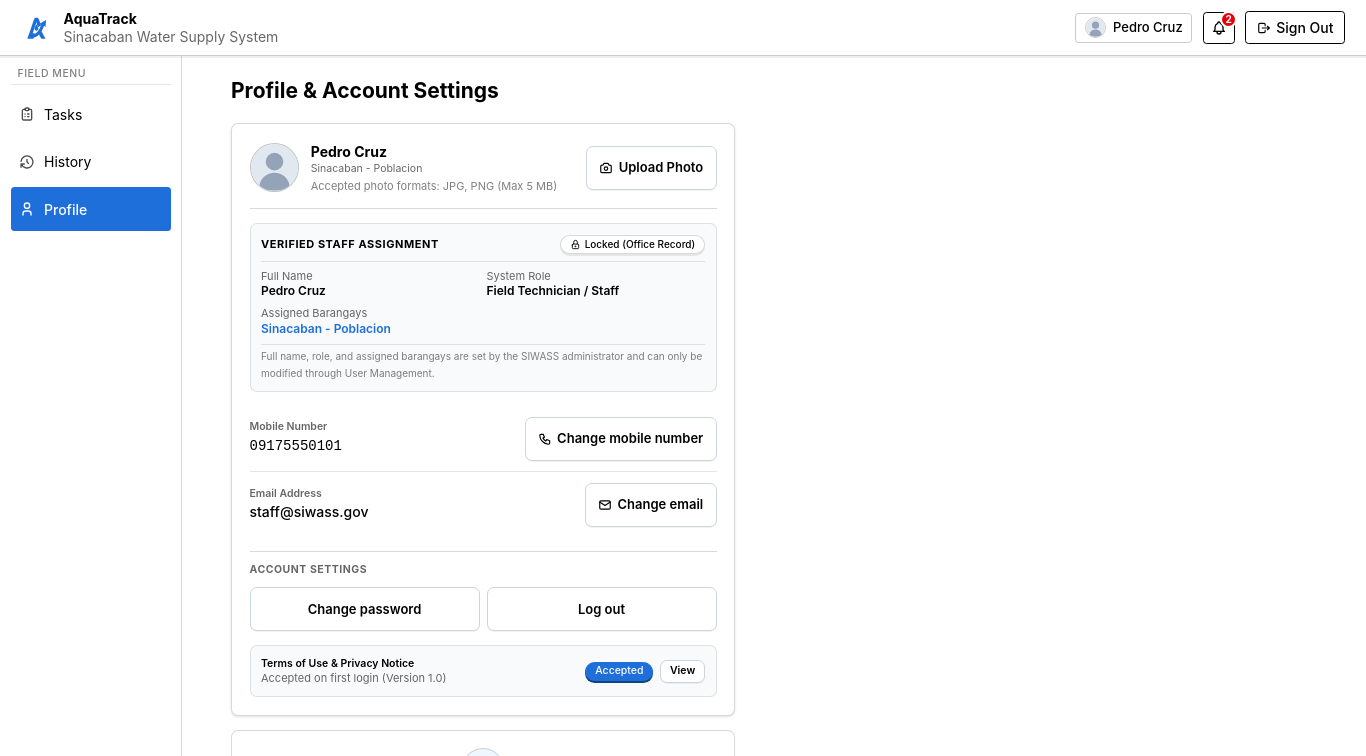
it: Settings Pages Workflow (docs sections 3.2 to 3.6 and 12) › Staff Settings (StaffProfileView) › changing password notifies that other active sessions have been signed out
Click the button "Change password".
click(364, 609)  # box x1=250 y1=587 x2=480 y2=631
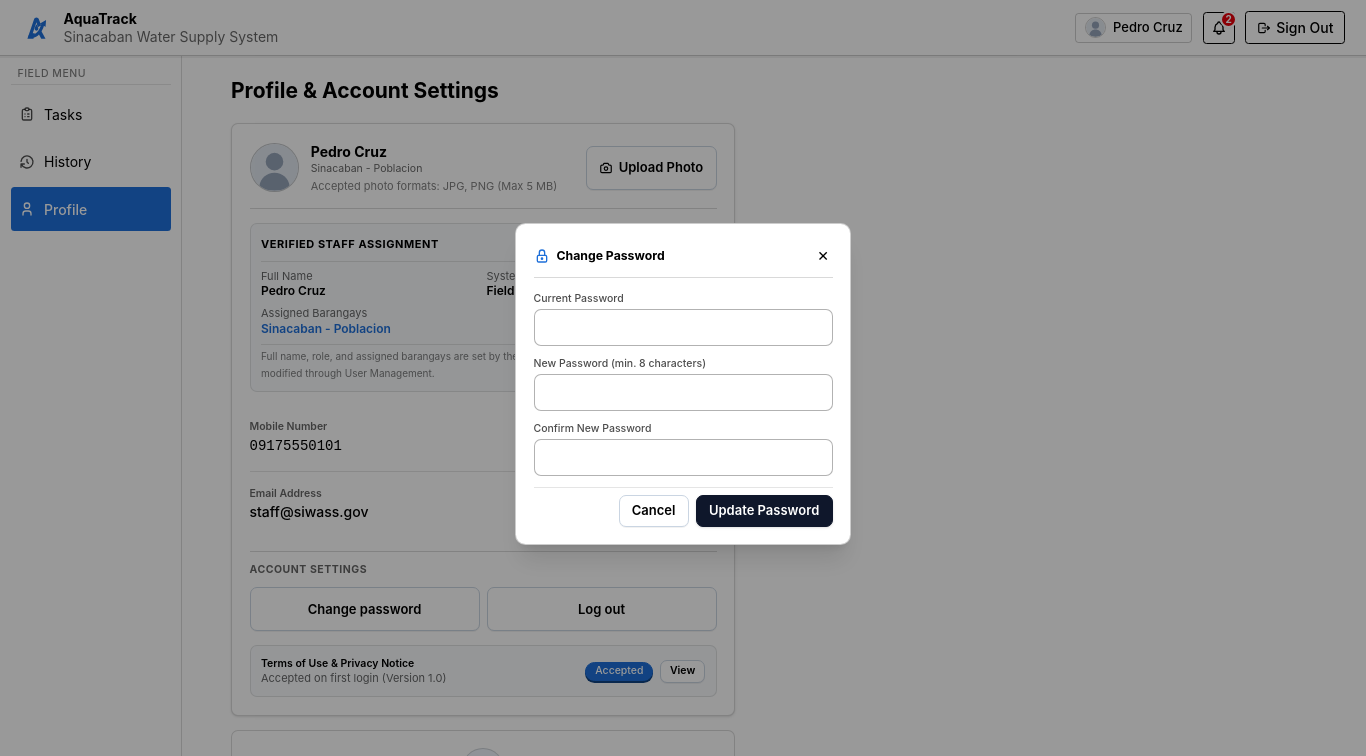
Type "CurrentPass123!" into the password field below "Current Password".
click(683, 328); type("CurrentPass123!")  # box x1=534 y1=309 x2=832 y2=346
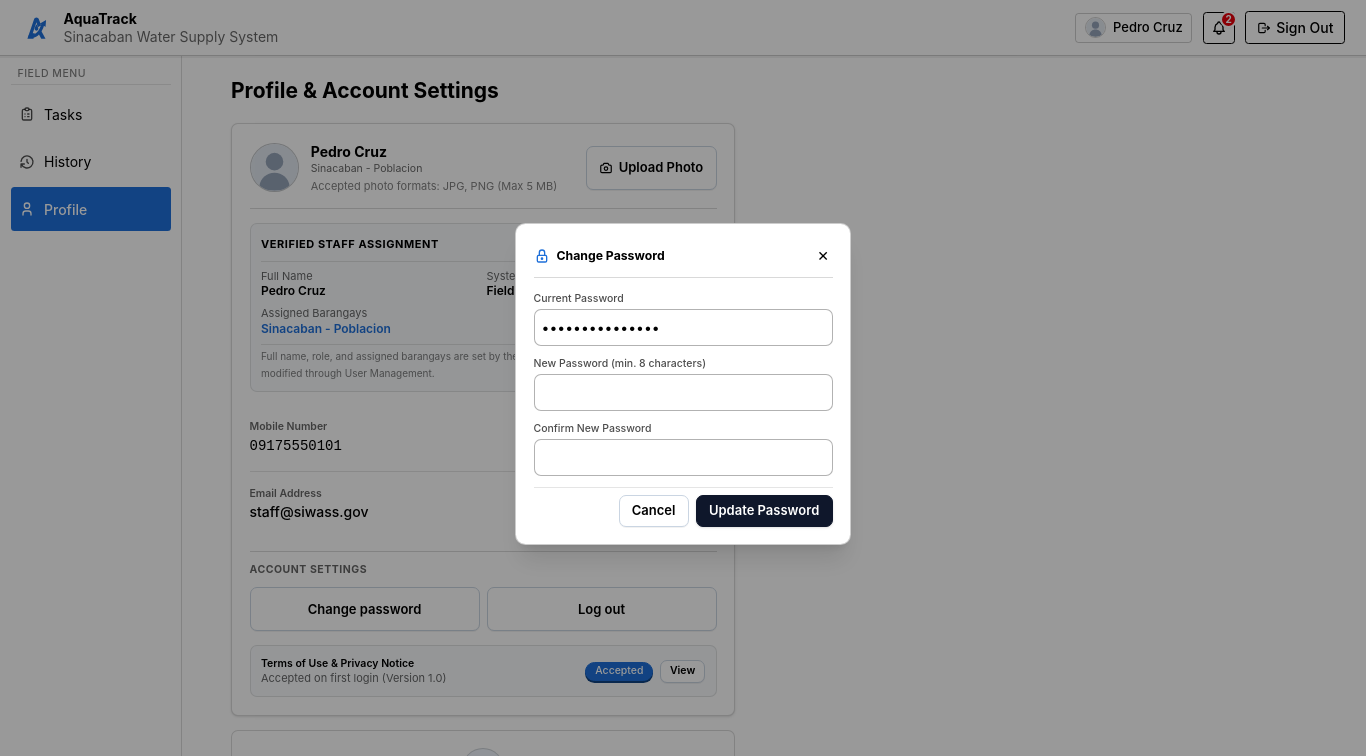
Type "NewPass123!@" into the password field below "New Password (min. 8 characters)".
click(683, 392); type("NewPass123!@")  # box x1=534 y1=374 x2=832 y2=411
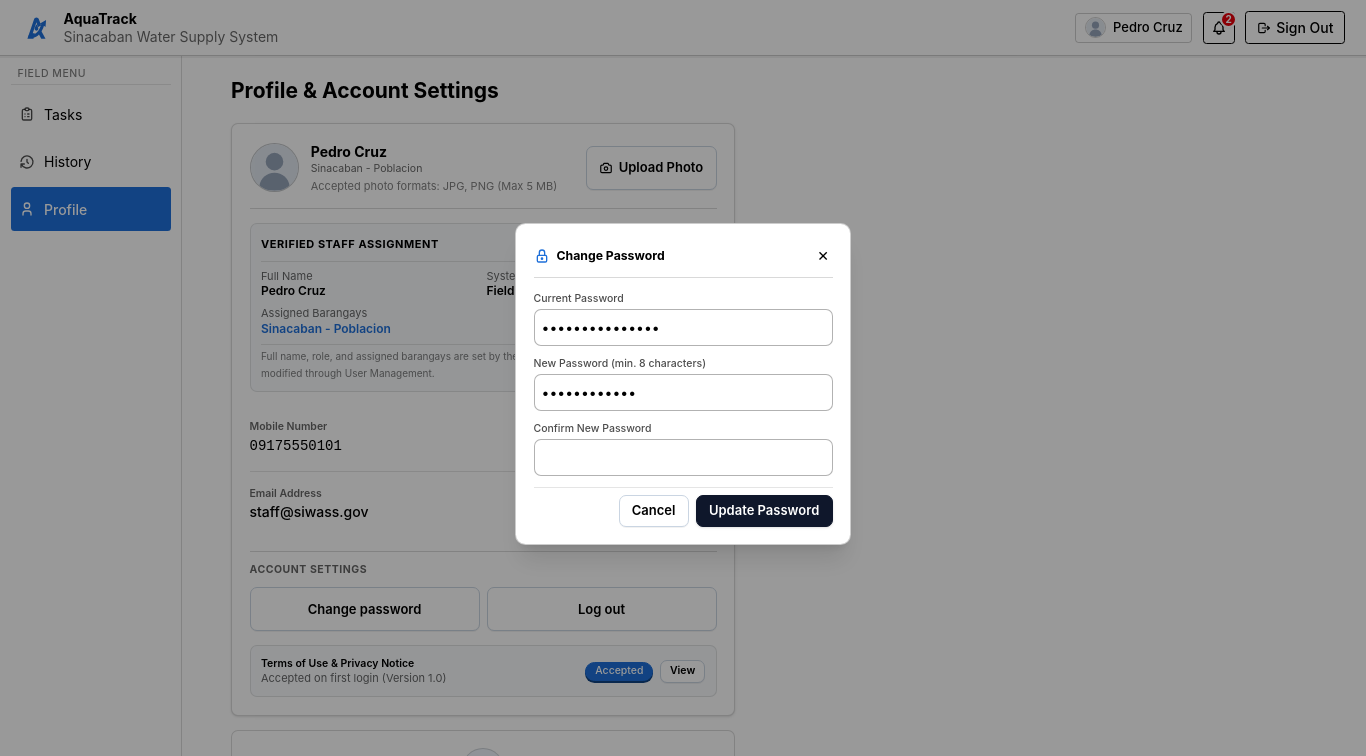
Type "NewPass123!@" into the password field below "Confirm New Password".
click(683, 458); type("NewPass123!@")  # box x1=534 y1=439 x2=832 y2=476
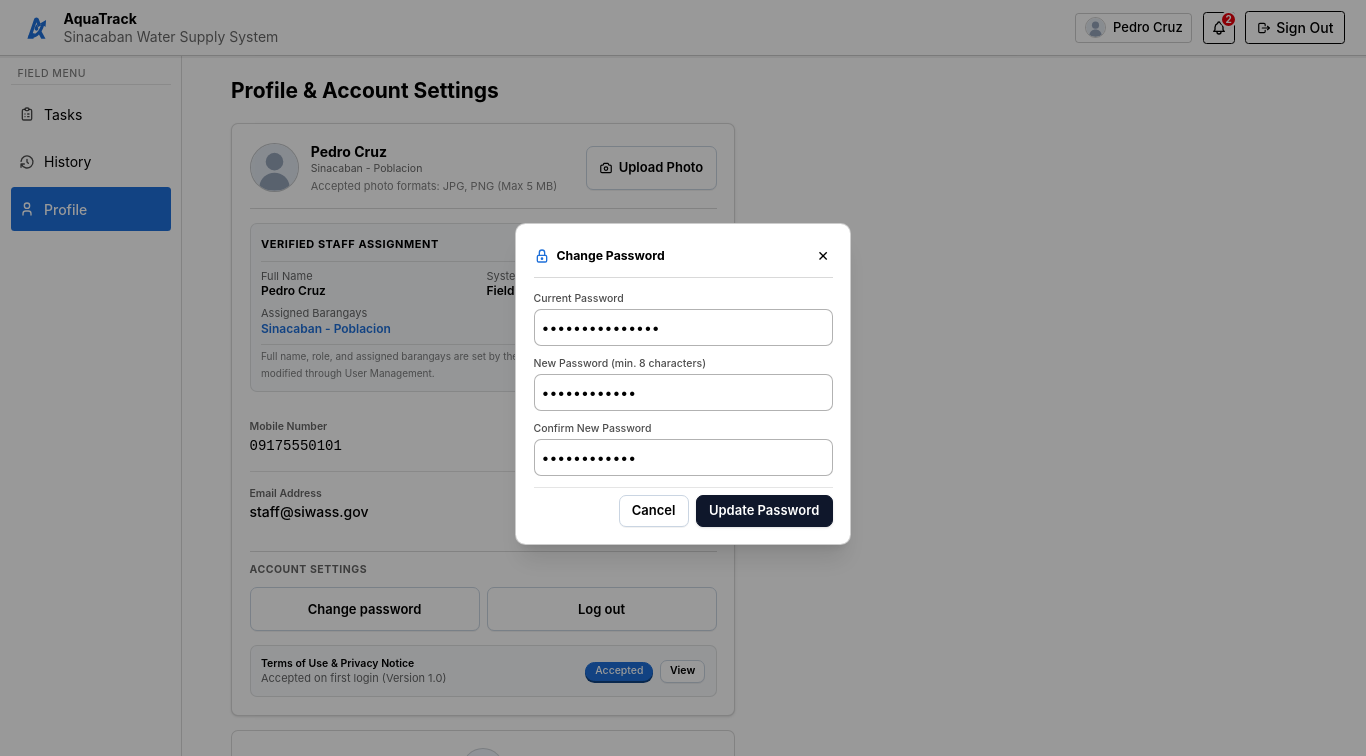
Click the button "Update Password".
click(764, 510)  # box x1=696 y1=494 x2=832 y2=526
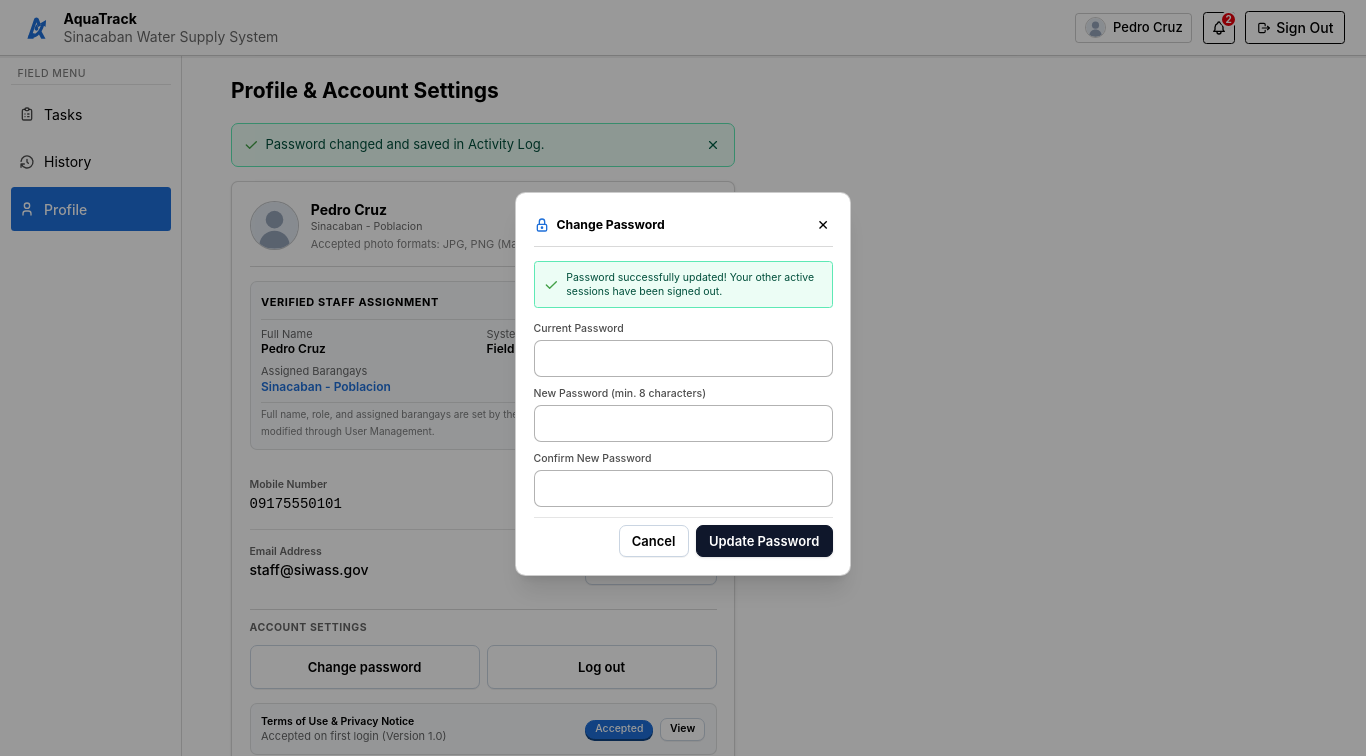
Now the text "Your other active sessions have been signed out" is shown, box x1=566 y1=270 x2=814 y2=298
